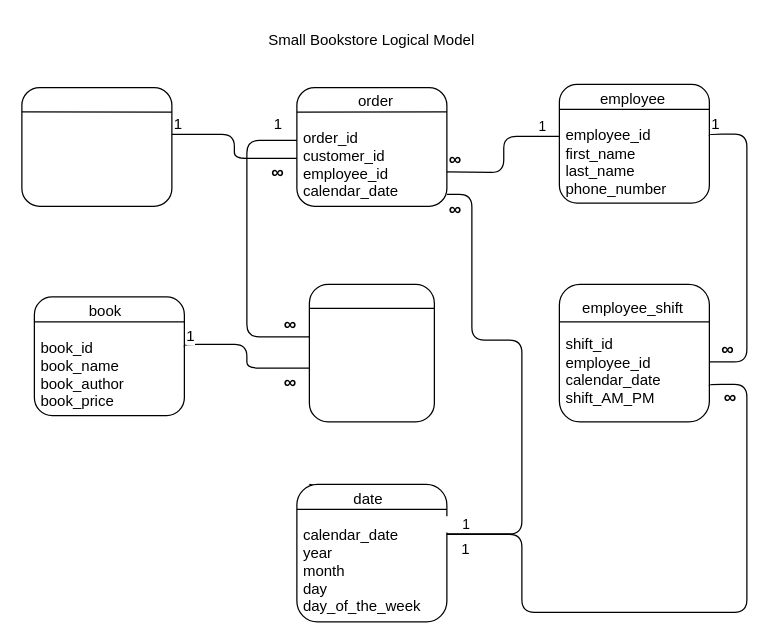
Image size: 770x644. Some labels were removed from this diagram. Here are the shapes that lost their labels. From the top down, the centre of each, then its label:
the point at 96,146: customer customer_id first_name last_name email
the point at 371,352: sales sale_id order_id book_id quantity price
